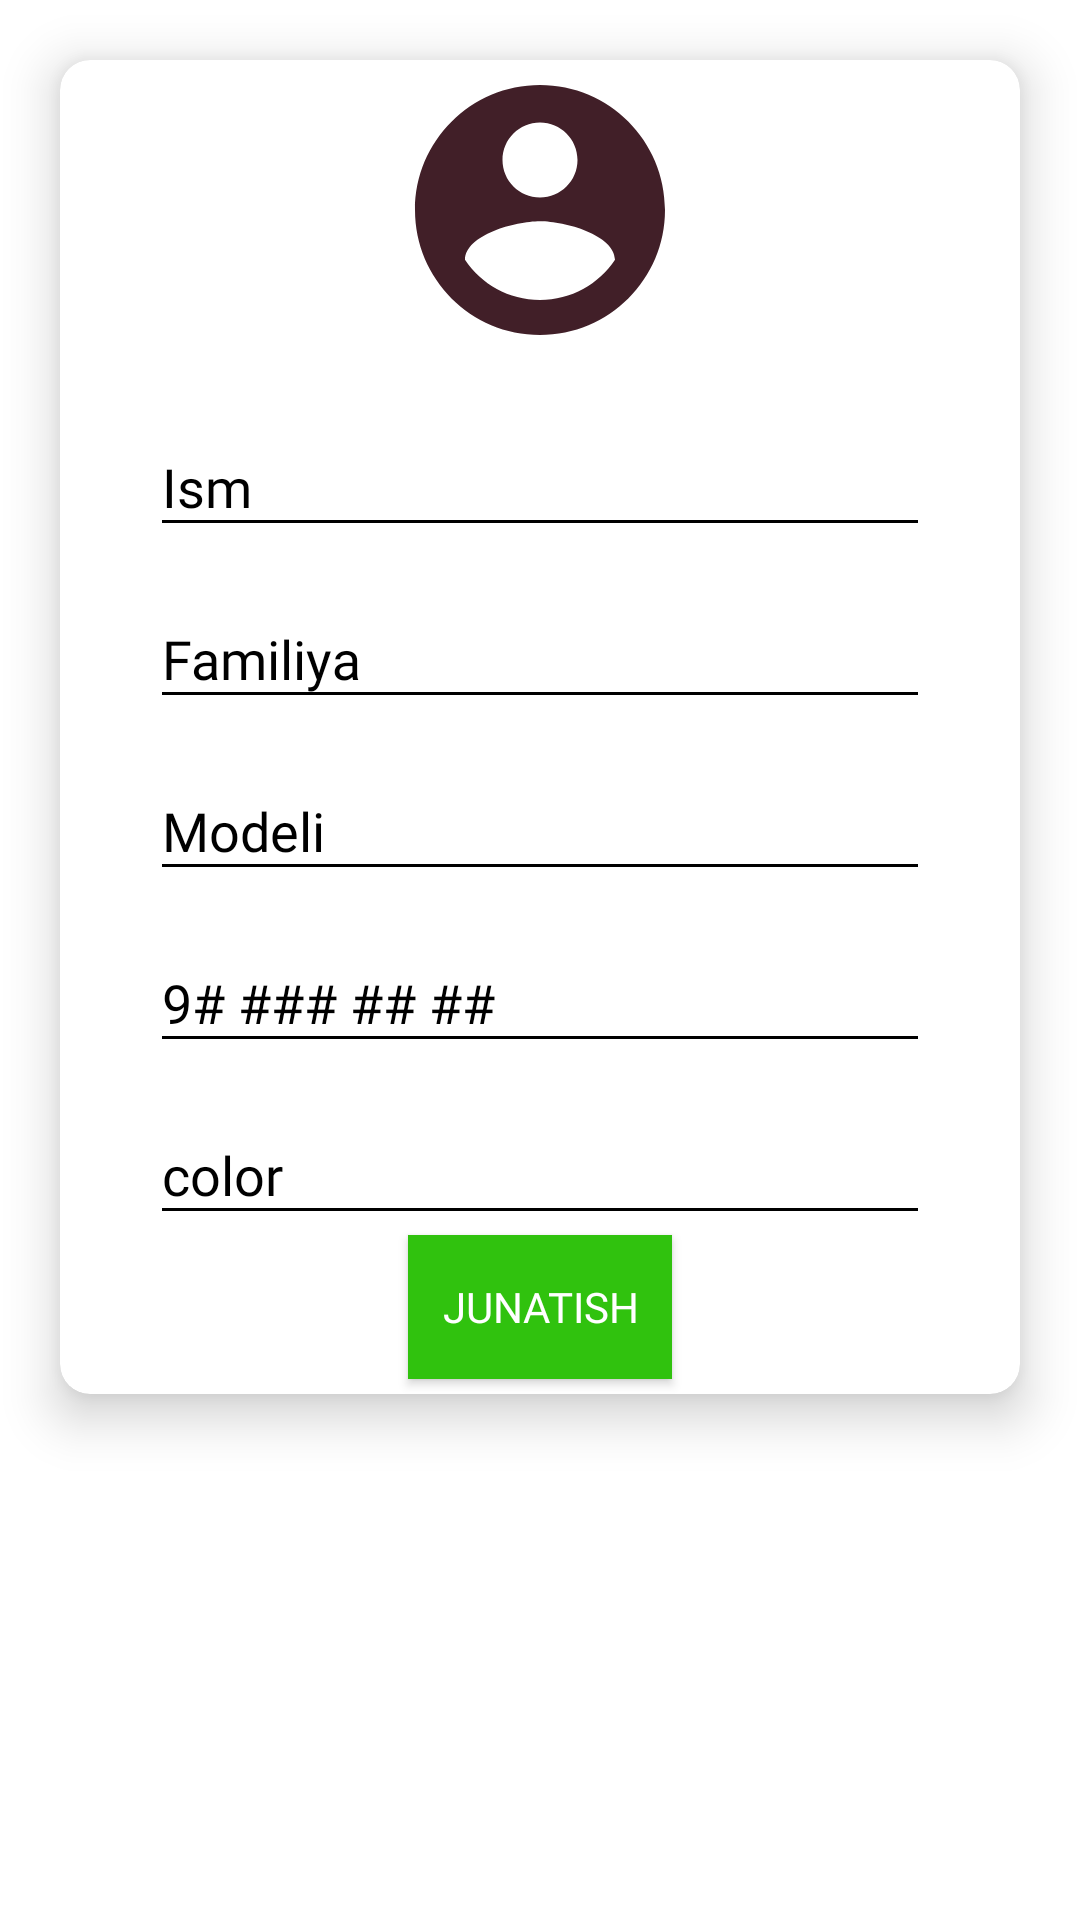

Icon click points for this 1080 × 1920 phone screenshot, format [x,y]:
icaccount: [540,210]
